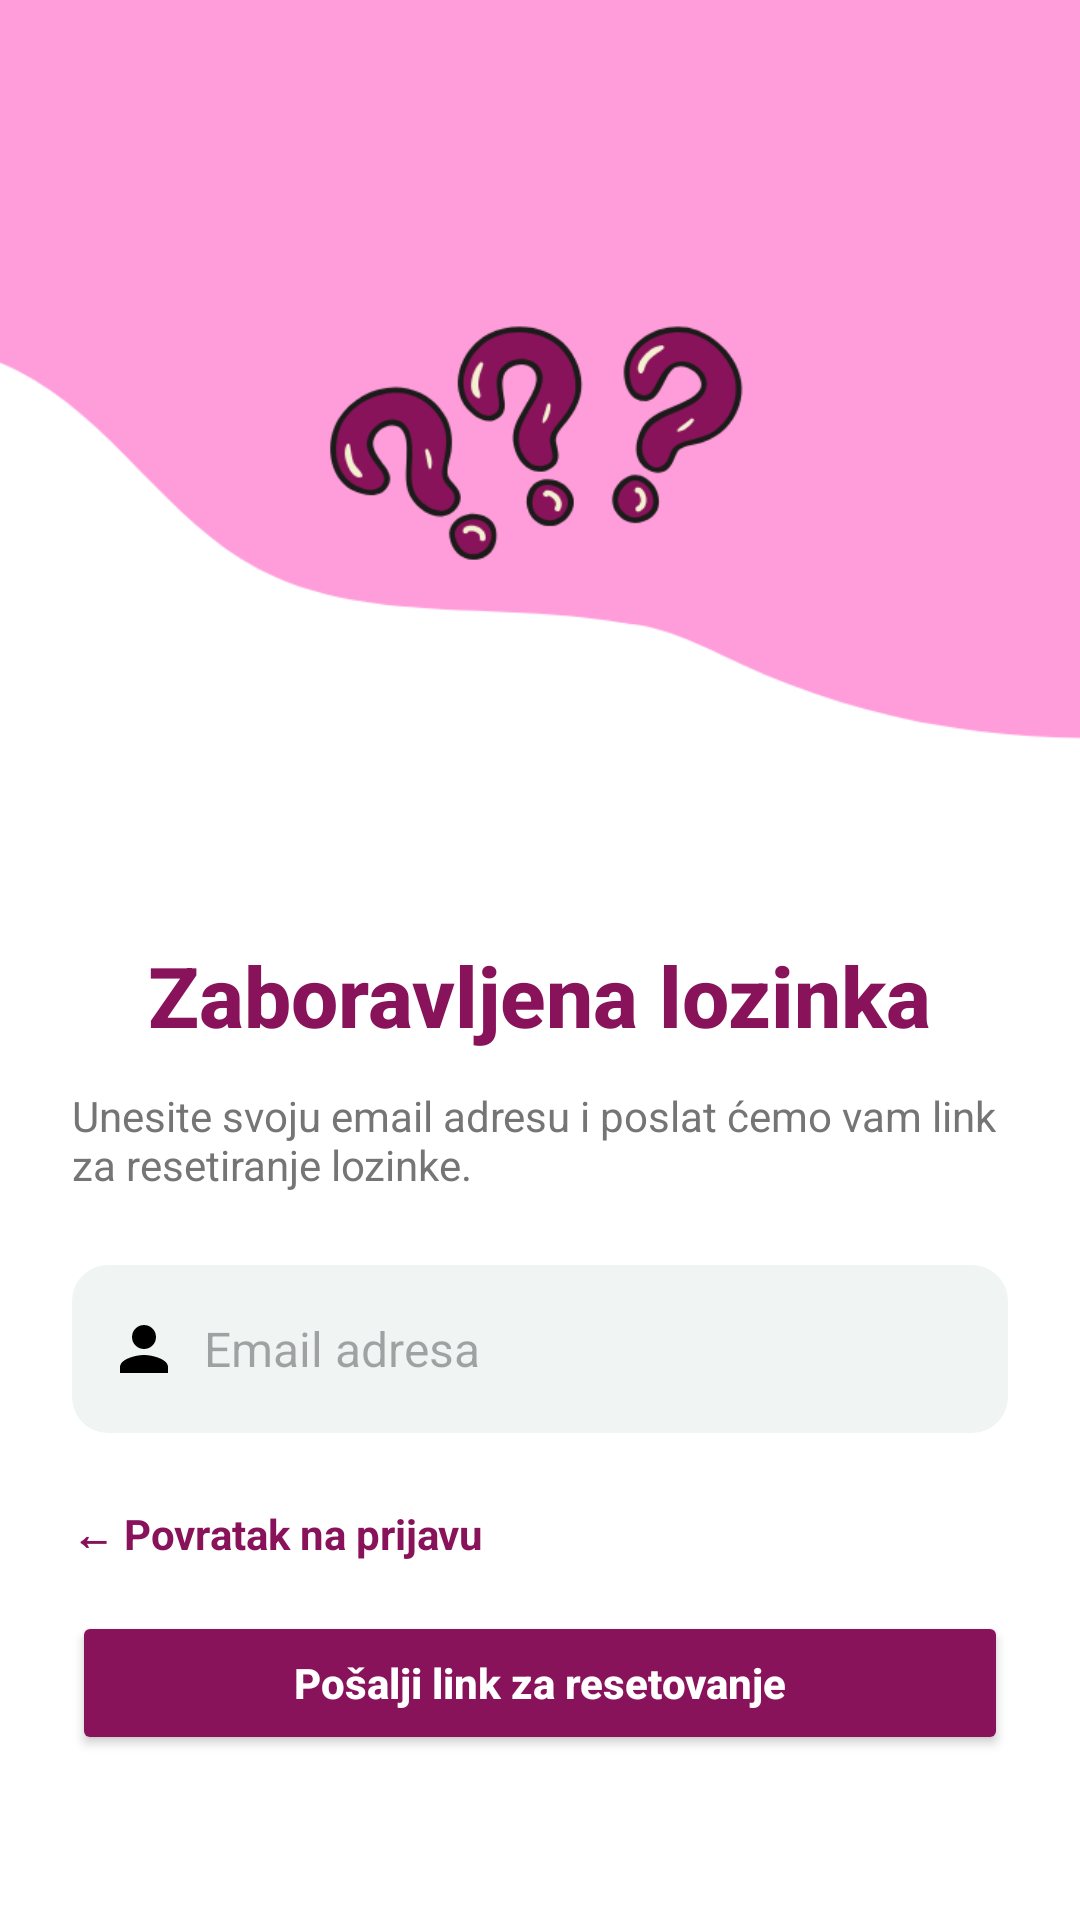

Icon bounding boxes for this 1080w x 1920h phone screenshot, format (x1, y1, x2, y2):
user: (120, 1325, 168, 1373)
